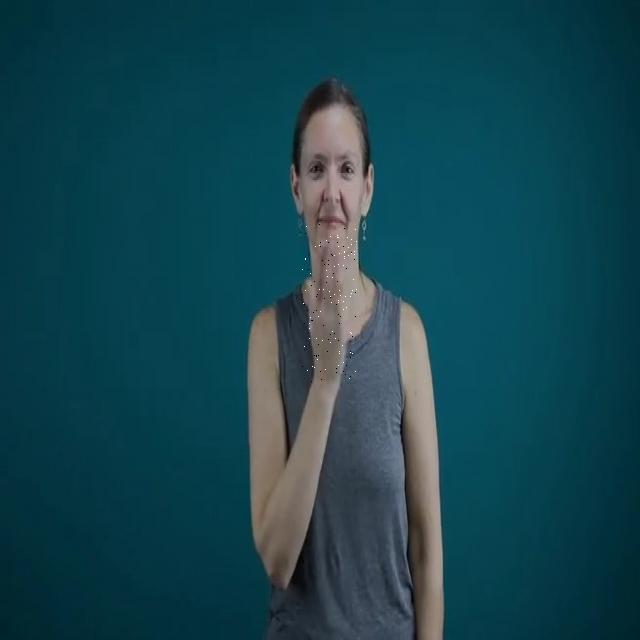napkin: (302, 224, 357, 382)
